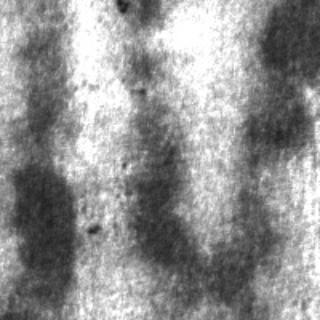patches: (127, 100, 203, 288), (244, 0, 316, 162), (5, 160, 75, 308), (206, 190, 272, 314), (8, 22, 72, 142), (109, 1, 168, 34)
